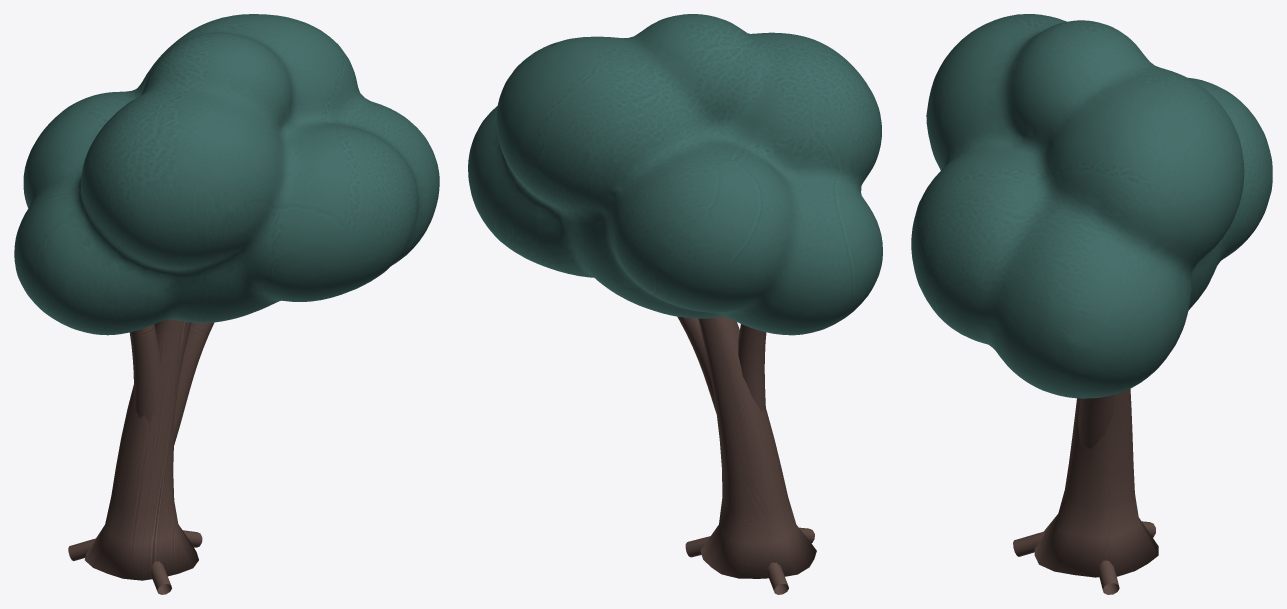
3 views of the same model, side by side, from view 1: azimuth 30°, elevation 25°; view 2: azimuth 150°, elevation 25°; view 3: azimuth 270°, elevation 25° (orthographic). The views are drawn at different scales.
Parts seen in each view (by area): view 1: Canopy, Trunk; view 2: Canopy, Trunk; view 3: Canopy, Trunk.
Part boxes in pixels (x1,y1,x2,y2): Canopy: (14, 14, 439, 335); Trunk: (68, 319, 214, 594); Canopy: (468, 14, 882, 335); Trunk: (677, 316, 816, 594); Canopy: (911, 14, 1272, 398); Trunk: (1013, 388, 1158, 594).
Size of the model in its own units: 3.78 by 4.69 by 2.7.
2 materials, 2 textured.
